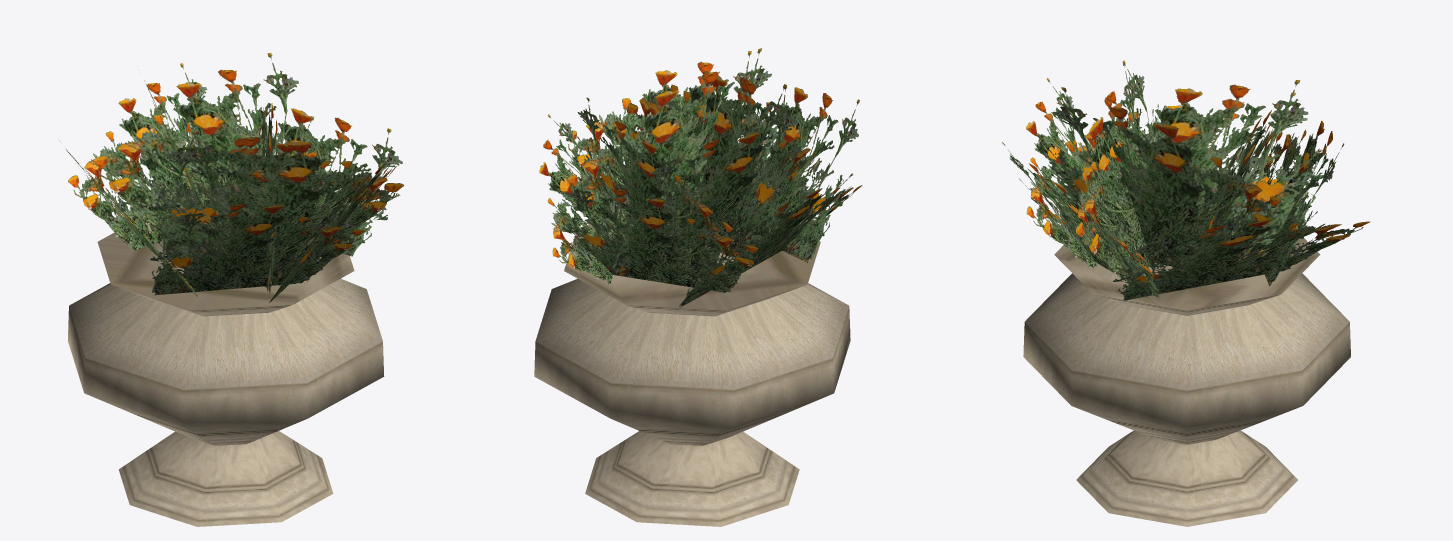
Rendered from thm_nboo_imprv_flower_urn_s01_l1.fbx.
3 views of the same model, side by side, from view 1: azimuth 30°, elevation 25°; view 2: azimuth 150°, elevation 25°; view 3: azimuth 270°, elevation 25° (orthographic).
Parts seen in each view (by area): view 1: mesh_node; view 2: mesh_node; view 3: mesh_node.
Part boxes in pixels (bbox=[...]): mesh_node: bbox=[58, 53, 403, 526]; mesh_node: bbox=[534, 48, 862, 526]; mesh_node: bbox=[1002, 60, 1370, 526].
Size of the model in its own units: 1.06 by 1.13 by 1.25.
